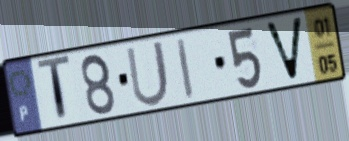5: (225, 23, 265, 91)
8: (79, 51, 117, 117)
I: (175, 35, 197, 102)
T: (35, 53, 73, 126)
U: (123, 37, 172, 109)
V: (262, 15, 305, 85)
